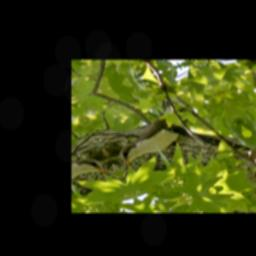Cuckoo: (94, 95, 209, 171)
